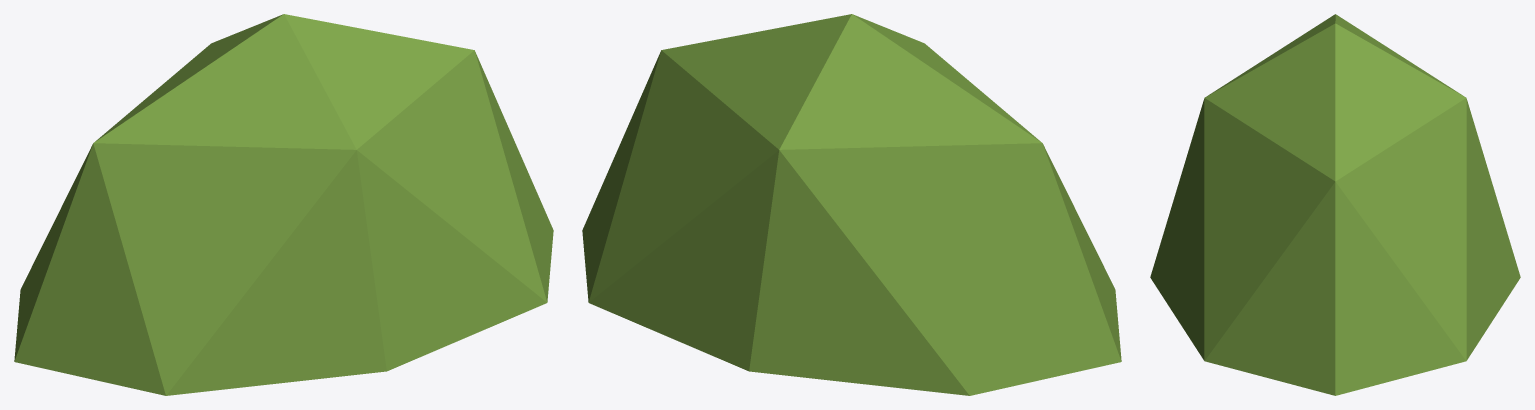
File: TB_Env_Bush_Small_B.FBX
The picture shows the model from 3 angles, left to right: view 1: azimuth 30°, elevation 25°; view 2: azimuth 150°, elevation 25°; view 3: azimuth 270°, elevation 25°; orthographic projection. The views are drawn at different scales.
Visible parts, largest first — view 1: TB_Env_Bush_Small_B; view 2: TB_Env_Bush_Small_B; view 3: TB_Env_Bush_Small_B.
Part boxes in pixels (x1,y1,x2,y2): TB_Env_Bush_Small_B: (14,14,553,395); TB_Env_Bush_Small_B: (582,14,1121,395); TB_Env_Bush_Small_B: (1150,14,1520,395).
Size of the model in its own units: 0.9949 by 0.4974 by 0.6574.
